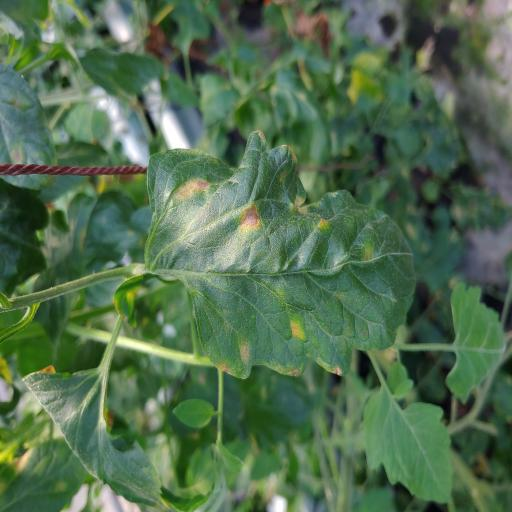disease_tomato: (145, 130, 415, 382)
